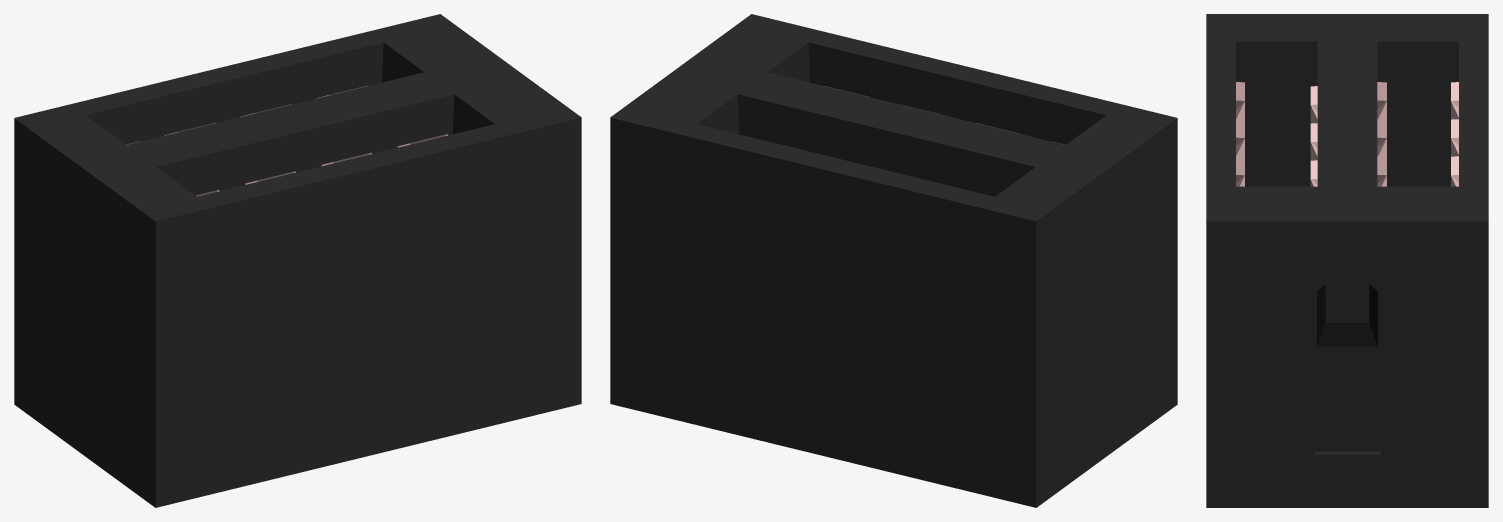
Rendered from Toaster.fbx.
The picture shows the model from 3 angles, left to right: view 1: azimuth 30°, elevation 25°; view 2: azimuth 150°, elevation 25°; view 3: azimuth 270°, elevation 25°; orthographic projection.
Visible parts, largest first — view 1: Toaster; view 2: Toaster; view 3: Toaster.
Part boxes in pixels (<box>): Toaster: <box>14,14,581,507</box>; Toaster: <box>610,14,1177,507</box>; Toaster: <box>1206,14,1488,507</box>.
Size of the model in its own units: 31.4 by 19 by 17.
